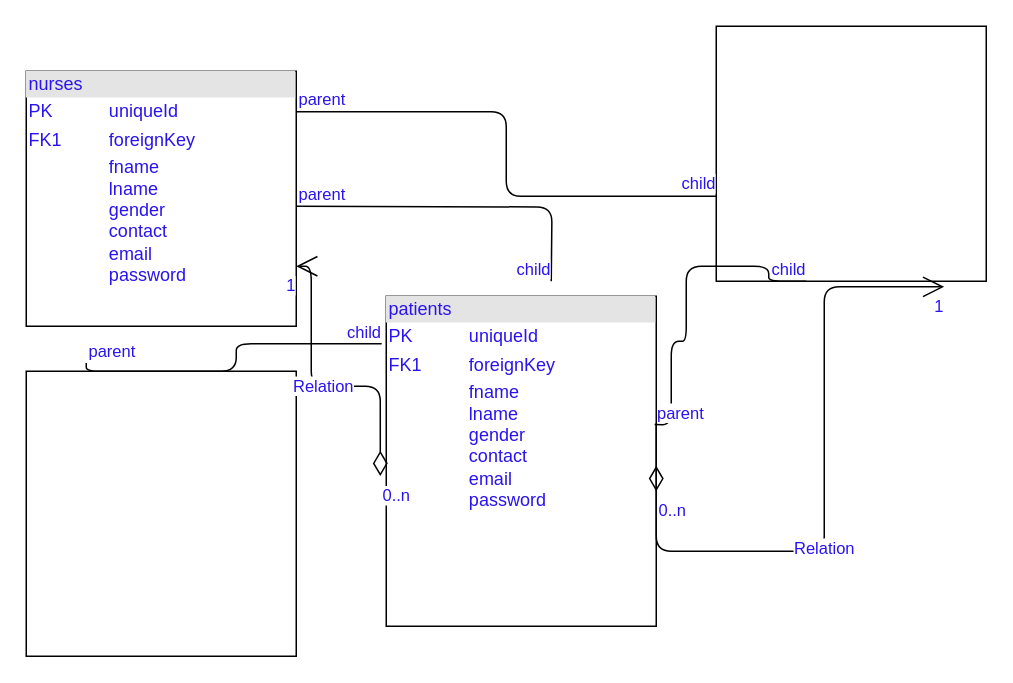
This 1013x683 diagram has some shape labels left out. Each missing label, with the centre of its shape:
doctors PK uniqueId FK1 foreignKey fname lname gender contact email password: [850,153]
pharmacists PK uniqueId FK1 foreignKey fname lname gender contact email password: [160,513]
